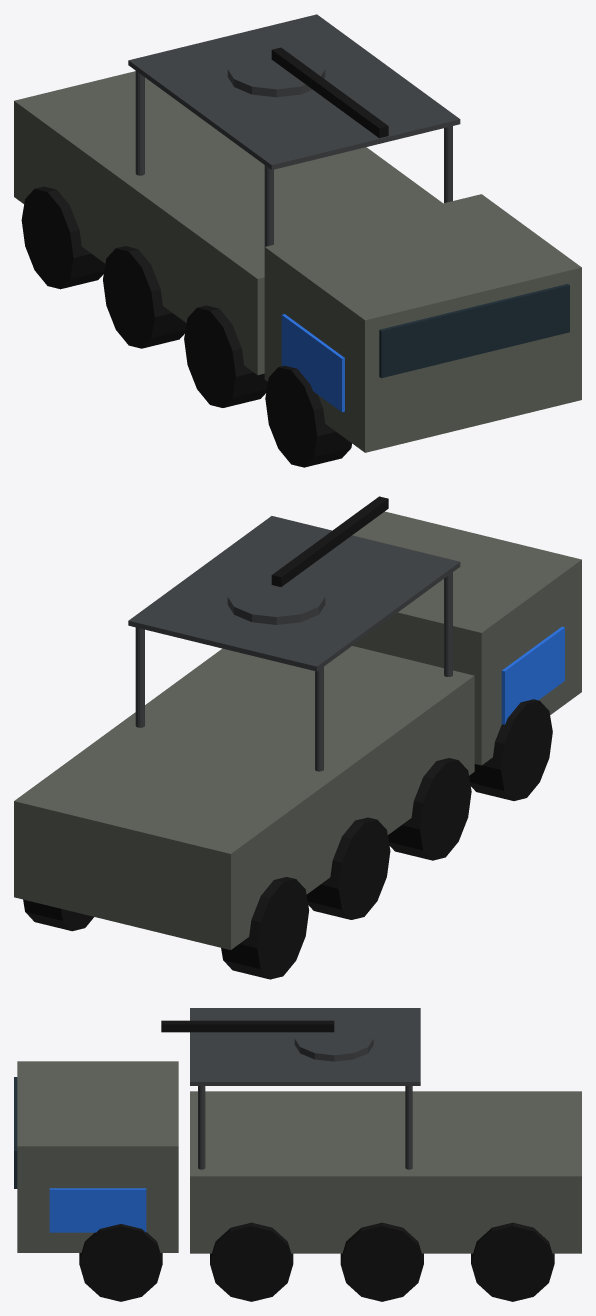
Rendered from eu_apc.glb.
The picture shows the model from 3 angles, top to bottom: view 1: azimuth 30°, elevation 25°; view 2: azimuth 150°, elevation 25°; view 3: azimuth 270°, elevation 25°; orthographic projection. The views are drawn at different scales.
Parts seen in each view (by area): view 1: body, cab, roll_roof, windshield, wheel_l1, wheel_l3, wheel_l2, wheel_l0, team_door_l, turret, barrel, roll_bar_2 (+2 smaller); view 2: body, cab, roll_roof, wheel_l3, wheel_l1, wheel_l2, wheel_l0, turret, team_door_l, barrel, wheel_r3, roll_bar_3 (+2 smaller); view 3: body, cab, roll_roof, wheel_r1, wheel_r3, wheel_r2, wheel_r0, team_door_r, turret, barrel, roll_bar_3, roll_bar_1 (+1 smaller).
Part boxes in pixels (x1,y1,x2,y2): body: [14, 71, 442, 375]; cab: [264, 194, 581, 452]; roll_roof: [128, 14, 460, 169]; windshield: [379, 284, 569, 378]; wheel_l1: [184, 305, 267, 407]; wheel_l3: [21, 186, 105, 289]; wheel_l2: [103, 246, 186, 348]; wheel_l0: [265, 365, 351, 467]; team_door_l: [281, 314, 344, 412]; turret: [227, 48, 325, 97]; barrel: [271, 47, 388, 138]; roll_bar_2: [135, 71, 144, 175]; body: [14, 646, 474, 949]; cab: [352, 511, 581, 765]; roll_roof: [128, 516, 460, 671]; wheel_l3: [221, 877, 309, 979]; wheel_l1: [388, 758, 471, 860]; wheel_l2: [306, 817, 390, 919]; wheel_l0: [469, 699, 552, 800]; turret: [227, 576, 325, 624]; team_door_l: [501, 626, 564, 724]; barrel: [271, 496, 388, 586]; wheel_r3: [23, 899, 93, 931]; roll_bar_3: [135, 627, 144, 727]; body: [190, 1091, 581, 1253]; cab: [17, 1061, 178, 1252]; roll_roof: [190, 1008, 420, 1085]; wheel_r1: [210, 1222, 293, 1301]; wheel_r3: [471, 1222, 554, 1301]; wheel_r2: [340, 1222, 423, 1301]; wheel_r0: [79, 1224, 162, 1301]; team_door_r: [49, 1188, 146, 1232]; turret: [294, 1022, 373, 1061]; barrel: [161, 1020, 334, 1032]; roll_bar_3: [405, 1086, 412, 1169]; roll_bar_1: [198, 1086, 205, 1169].
Bounding box in the file's own units: 3 × 3.53 × 7.79.
